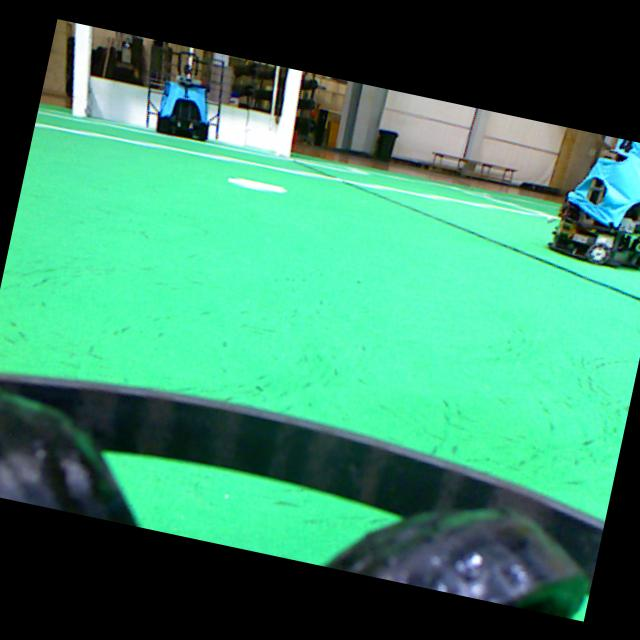goal: (274, 68, 301, 157), (71, 22, 91, 116)
